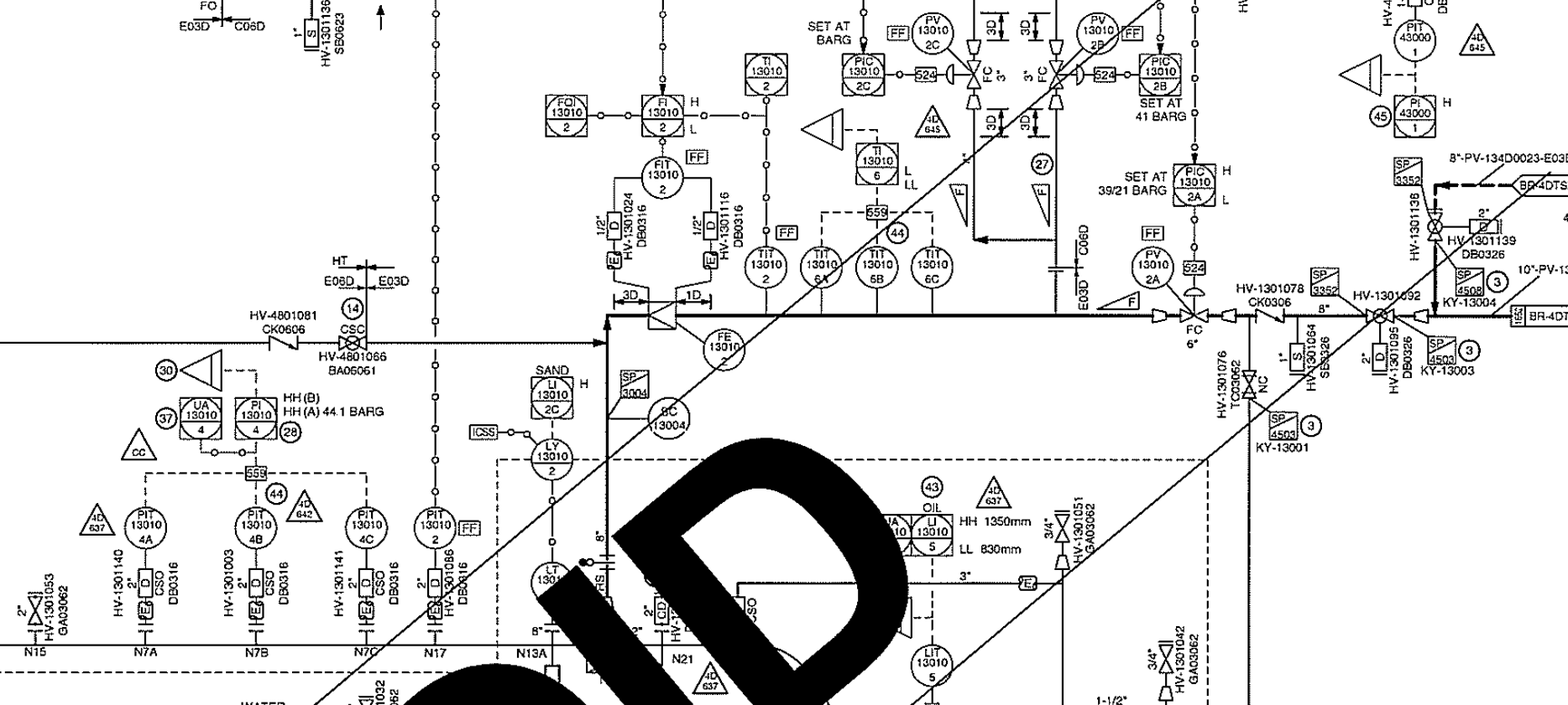Instrument: (406, 497, 462, 552), (339, 501, 395, 554), (630, 153, 689, 200), (228, 500, 281, 552), (695, 326, 753, 373), (740, 241, 791, 294), (907, 244, 962, 293), (904, 7, 957, 57), (1126, 240, 1175, 293), (121, 502, 171, 552), (1391, 18, 1440, 69), (854, 246, 903, 295), (799, 243, 847, 293), (527, 436, 573, 481), (1079, 11, 1120, 56)
Instrument-square: (630, 88, 687, 141), (524, 371, 581, 424), (538, 88, 593, 142), (907, 507, 958, 562), (1390, 88, 1440, 143), (1135, 47, 1185, 101), (1168, 160, 1222, 210), (174, 391, 225, 443), (740, 49, 793, 99), (836, 48, 889, 97), (232, 392, 281, 443), (852, 138, 901, 189)
